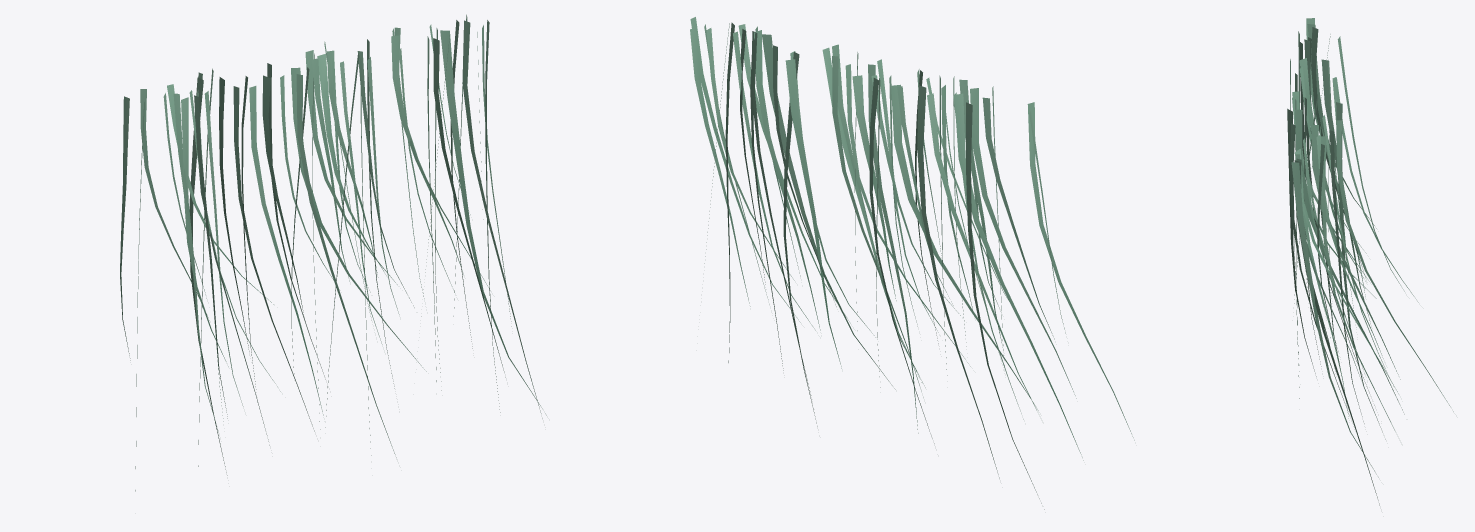
The model's file is mesh-plant-039-green-cascade_LOD1.glb.
3 views of the same model, side by side, from view 1: azimuth 30°, elevation 25°; view 2: azimuth 150°, elevation 25°; view 3: azimuth 270°, elevation 25° (orthographic). The views are drawn at different scales.
Visible parts, largest first — view 1: geometry_0; view 2: geometry_0; view 3: geometry_0.
Boxes of the visible parts, <box> form: geometry_0: <box>120,14,546,491</box>; geometry_0: <box>690,17,1134,509</box>; geometry_0: <box>1287,18,1453,505</box>.
Size of the model in its own units: 3.15 by 2.35 by 1.87.
